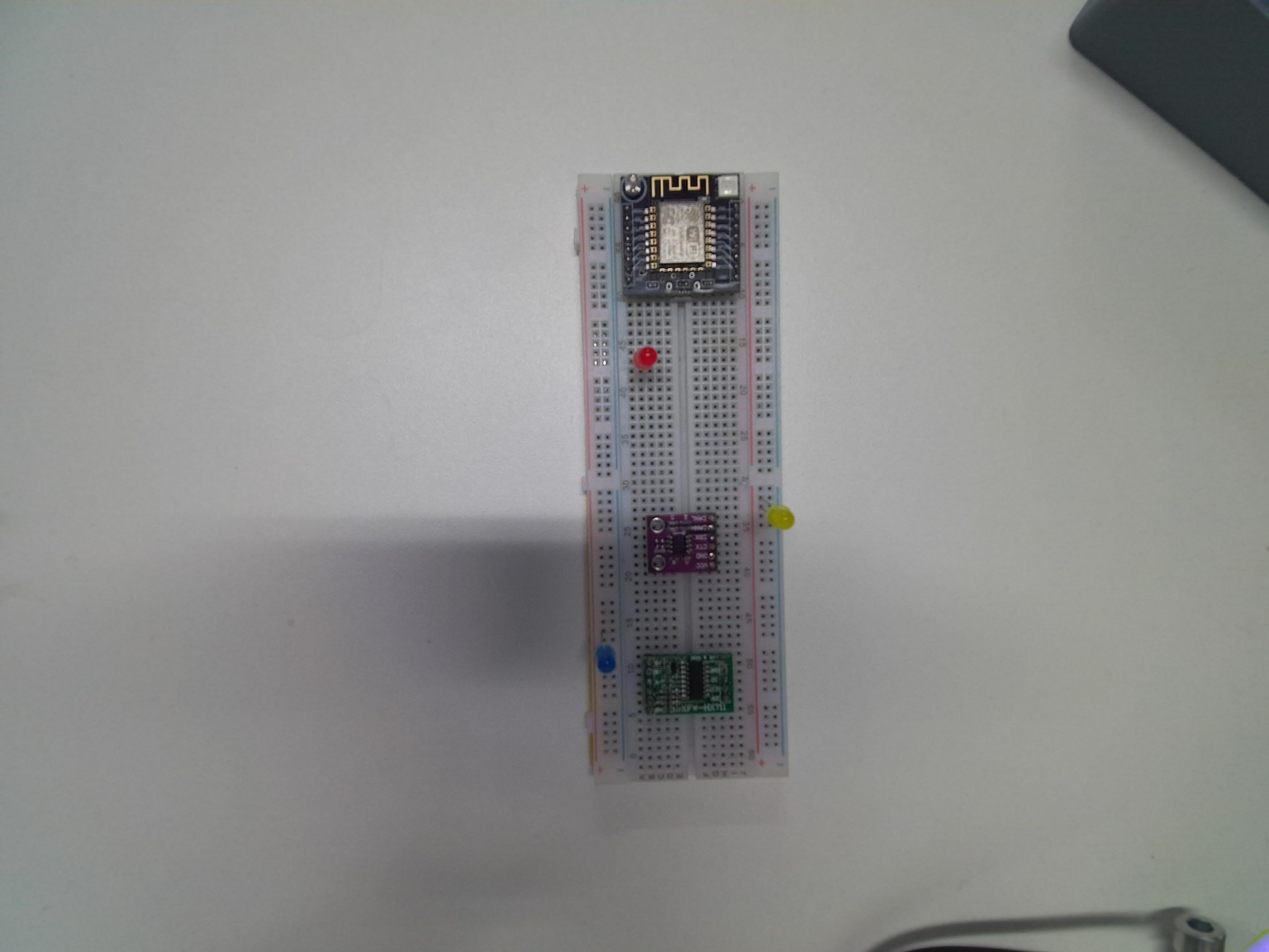base: (571, 167, 786, 787)
blue-led: (590, 645, 620, 681)
esp: (618, 172, 745, 302)
green-board: (634, 645, 737, 720)
purple-board: (643, 510, 721, 576)
red-led: (629, 343, 661, 372)
yellow-led: (767, 504, 794, 529)
